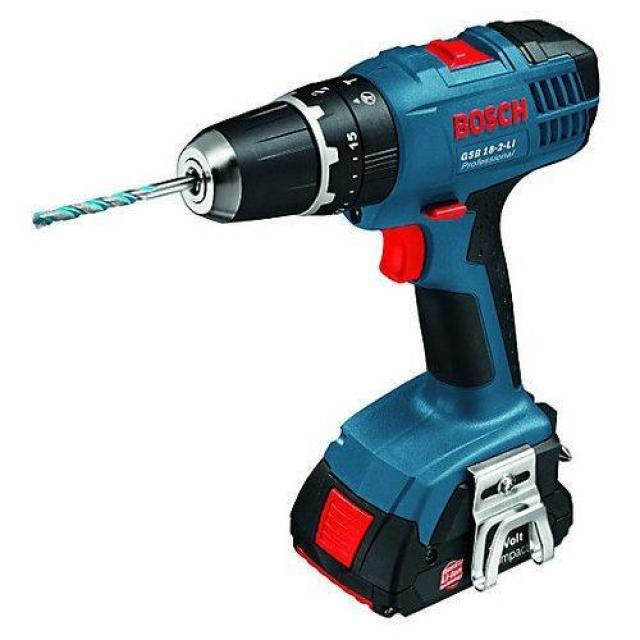drill: (30, 20, 601, 619)
